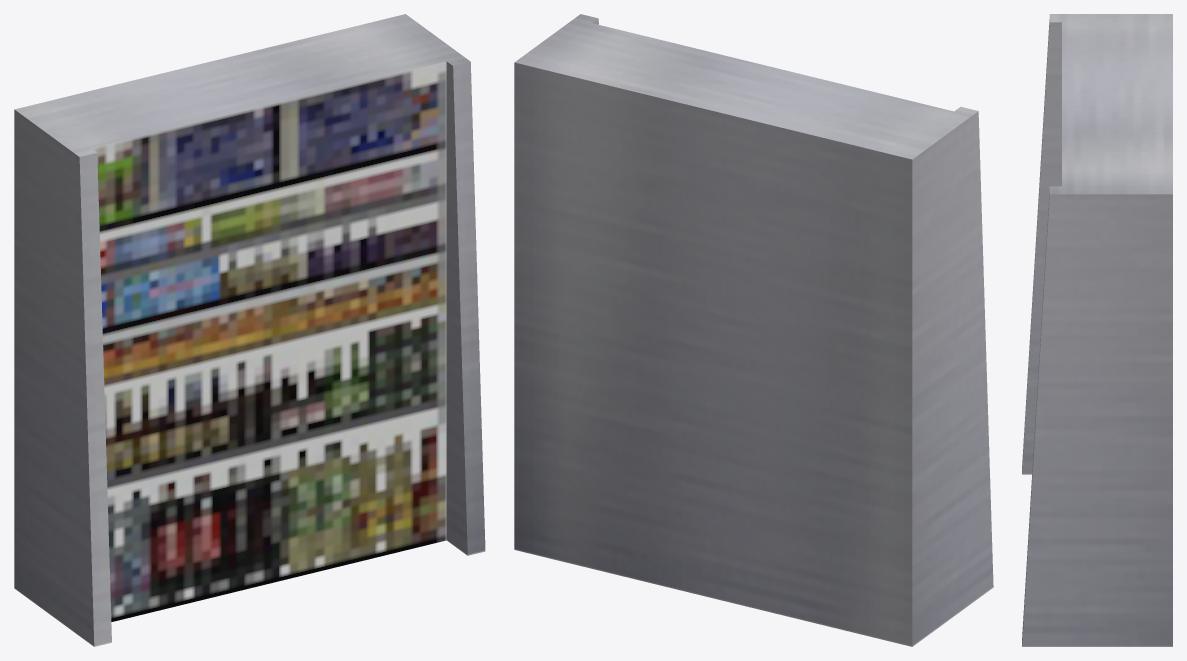
The model's file is Estante_Variado_003.fbx.
3 renders of one model, left to right at view 1: azimuth 30°, elevation 25°; view 2: azimuth 150°, elevation 25°; view 3: azimuth 270°, elevation 25°, orthographic. The views are drawn at different scales.
Parts seen in each view (by area): view 1: Estante_Variado_003; view 2: Estante_Variado_003; view 3: Estante_Variado_003.
Boxes of the visible parts, x1,y1,x2,y2 form: Estante_Variado_003: (14,14,485,646); Estante_Variado_003: (514,14,993,646); Estante_Variado_003: (1022,14,1172,646).
Size of the model in its own units: 154 by 180 by 54.36.
Materials: 1 (1 with a texture image).
